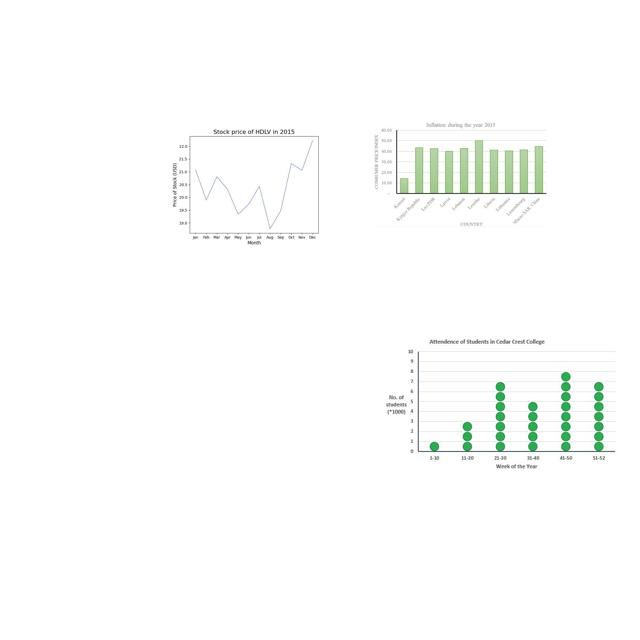Graph: (381, 335, 620, 474), (168, 121, 336, 247), (372, 121, 548, 227)
